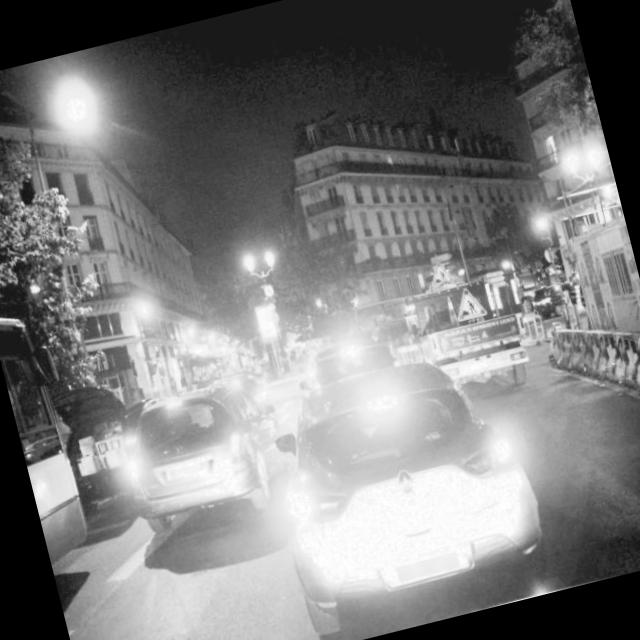Truck: (402, 269, 539, 408)
